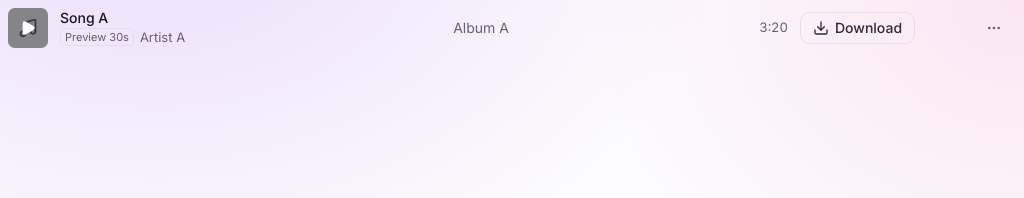
Test: TrackRow heart — only for tracks in the library › an admin's plain download shows the heart the response says
This screenshot has width=1024, height=198.
Click the button with aria-label "Download Song A" at (858, 28), box [800,12,915,44]
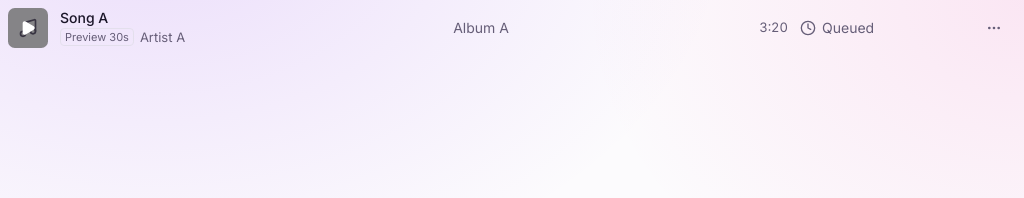
Result: the element titled "Queued" is shown at [800,19,874,36]
